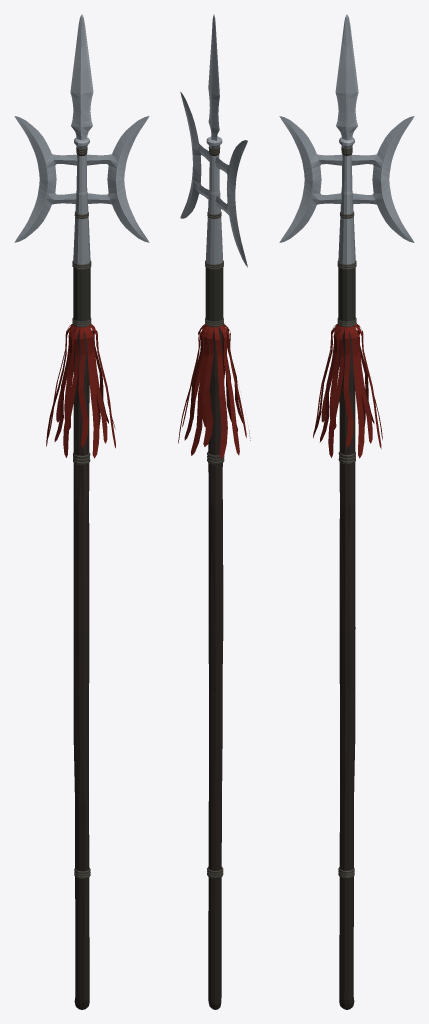
Rendered from pokeHeavyFangtianJi.glb.
3 views of the same model, side by side, from view 1: azimuth 90°, elevation 25°; view 2: azimuth 210°, elevation 25°; view 3: azimuth 270°, elevation 25° (orthographic).
Visible parts, largest first — view 1: pokeHeavyFangtianJi; view 2: pokeHeavyFangtianJi; view 3: pokeHeavyFangtianJi.
Part boxes in pixels (x1=…): pokeHeavyFangtianJi: x1=14, y1=14, x2=149, y2=1009; pokeHeavyFangtianJi: x1=178, y1=14, x2=250, y2=1009; pokeHeavyFangtianJi: x1=279, y1=14, x2=414, y2=1009.
Bounding box in the file's own units: 0.1487 × 2.36 × 0.2907.
